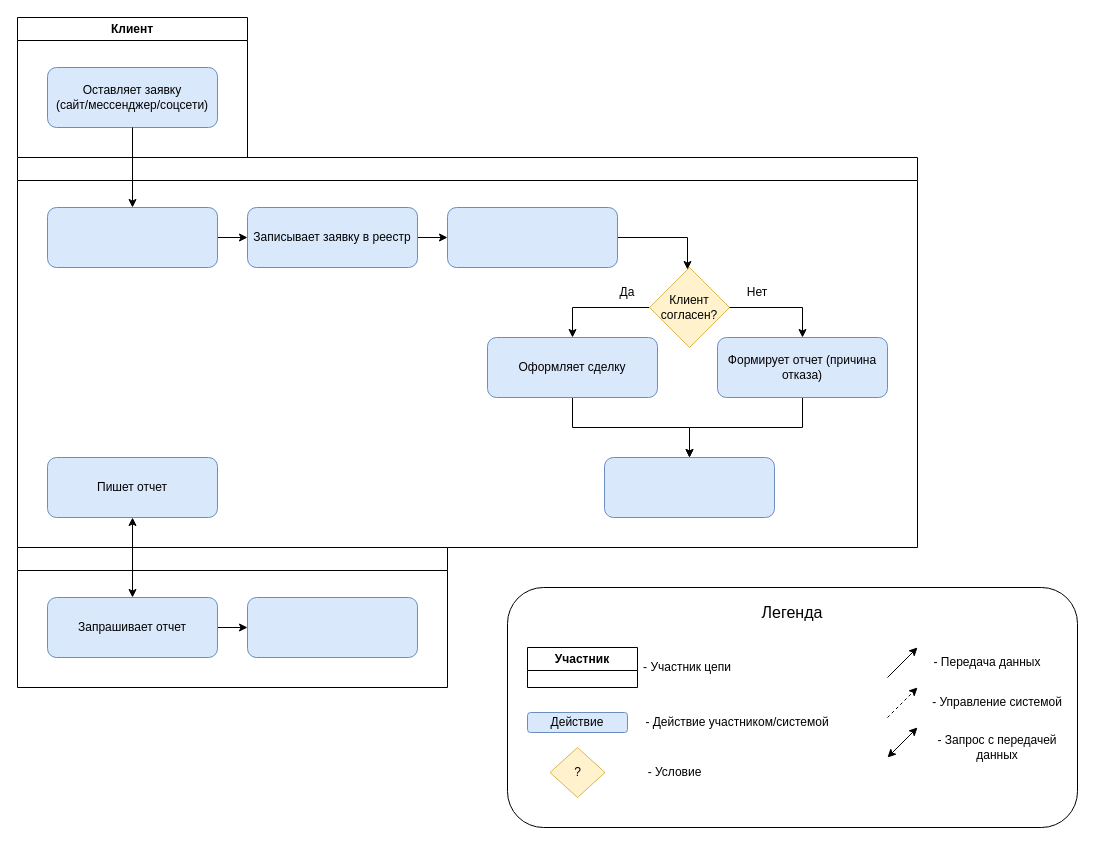
Some shapes in this 1095 by 845 pixel diagram are drawn without their labels. Each missing label, with the box of its shape:
Высчитывает KPI и анализирует отчет: (246, 596, 418, 658)
Изменяет статус в реестре: (604, 456, 774, 518)
Менеджер: (16, 156, 918, 548)
Получает заявку: (46, 206, 218, 268)
Руководитель: (16, 546, 448, 688)
Связывается с лидом: (446, 206, 618, 268)
